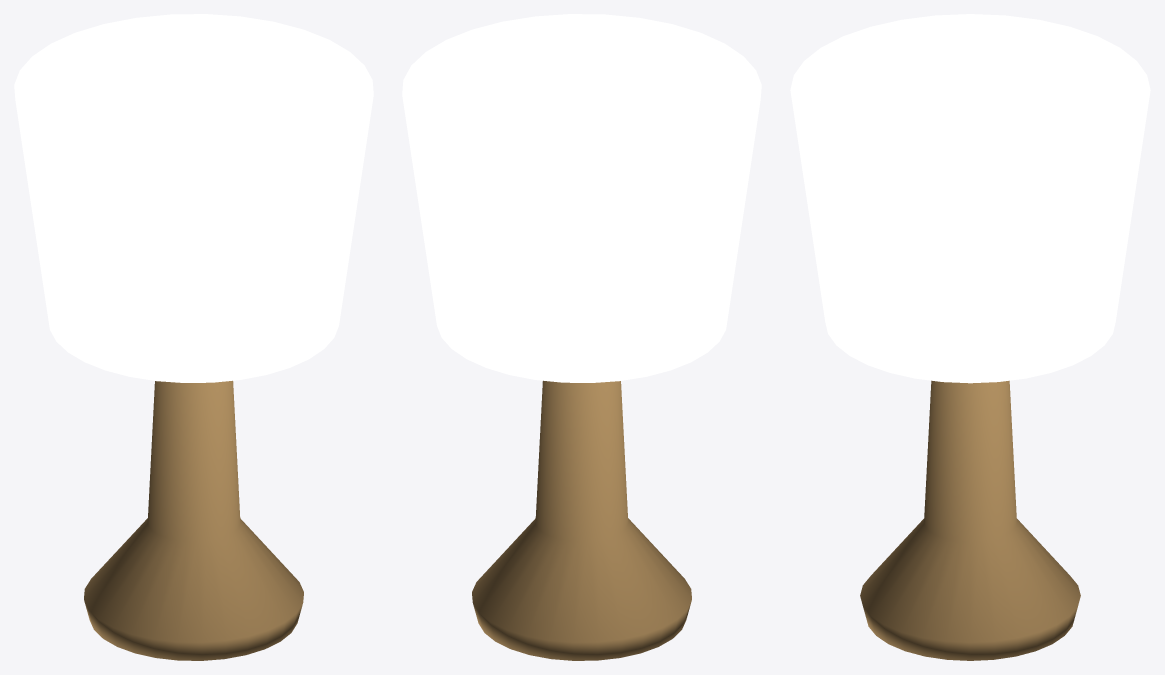
Rendered from table-lamp.glb.
3 renders of one model, left to right at view 1: azimuth 30°, elevation 25°; view 2: azimuth 150°, elevation 25°; view 3: azimuth 270°, elevation 25°, orthographic.
Visible parts, largest first — view 1: lamp_shade, lamp_base; view 2: lamp_shade, lamp_base; view 3: lamp_shade, lamp_base.
Part boxes in pixels (x1,y1,x2,y2): lamp_shade: [14, 14, 373, 382]; lamp_base: [84, 380, 303, 660]; lamp_shade: [402, 14, 761, 382]; lamp_base: [472, 380, 691, 660]; lamp_shade: [790, 14, 1150, 383]; lamp_base: [860, 380, 1080, 660].
Size of the model in its own units: 0.31 by 0.5 by 0.31.
